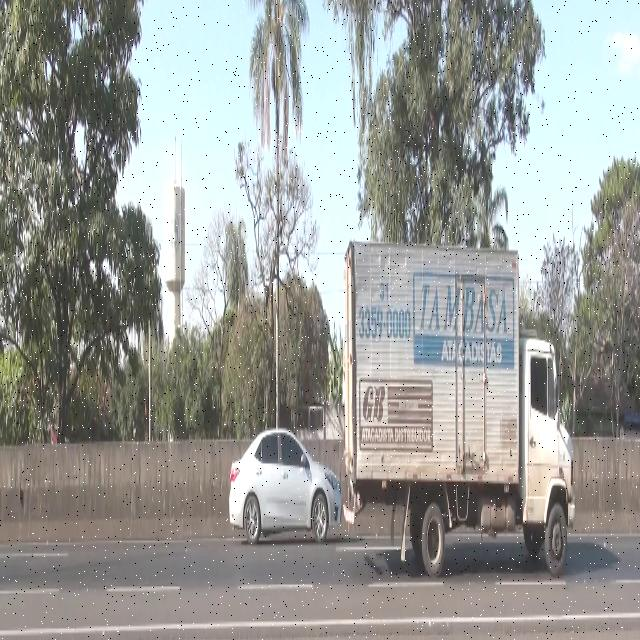-axle: (420, 501, 446, 581), (546, 504, 570, 577)
